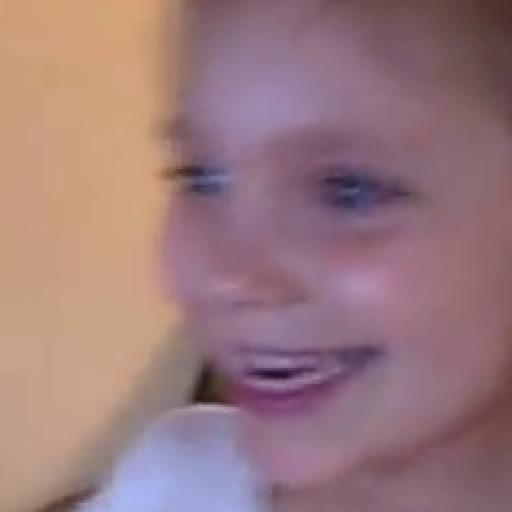Autism: (139, 9, 512, 512)
